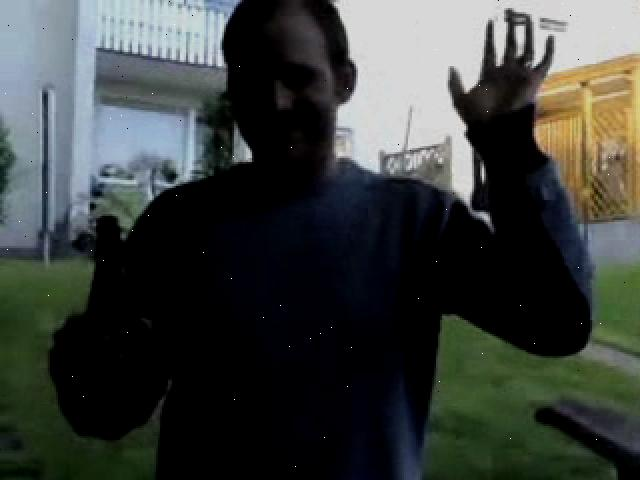L: (46, 0, 600, 480)
